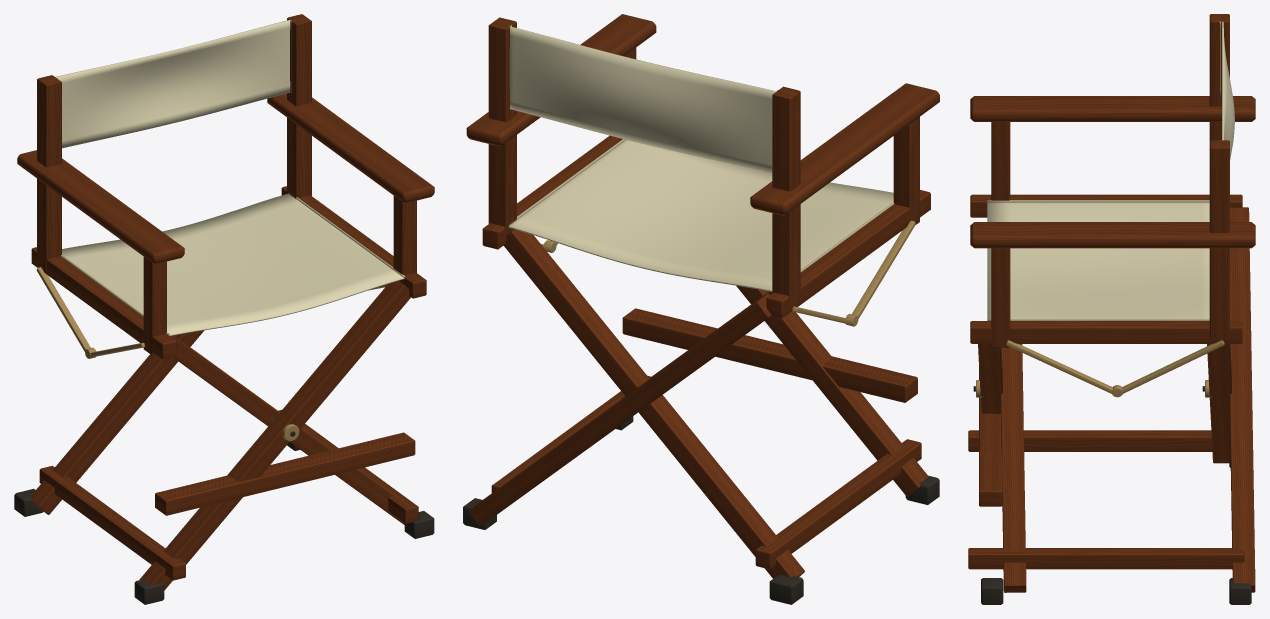
The model's file is S026_director_chair_rebuilt.glb.
3 renders of one model, left to right at view 1: azimuth 30°, elevation 25°; view 2: azimuth 150°, elevation 25°; view 3: azimuth 270°, elevation 25°, orthographic. The views are drawn at different scales.
Visible parts, largest first — view 1: Director_honey_beech, Director_warm_ivory_canvas, Director_dark_rubber_feet, Director_bronze_folding_hardware, Director_sewn_canvas_hems; view 2: Director_honey_beech, Director_warm_ivory_canvas, Director_dark_rubber_feet, Director_bronze_folding_hardware, Director_sewn_canvas_hems; view 3: Director_honey_beech, Director_warm_ivory_canvas, Director_bronze_folding_hardware, Director_dark_rubber_feet, Director_sewn_canvas_hems.
Boxes of the visible parts, x1,y1,x2,y2 form: Director_honey_beech: [17, 14, 434, 590]; Director_warm_ivory_canvas: [55, 20, 404, 336]; Director_dark_rubber_feet: [14, 431, 434, 604]; Director_bronze_folding_hardware: [36, 267, 387, 441]; Director_sewn_canvas_hems: [57, 20, 405, 335]; Director_honey_beech: [466, 14, 939, 578]; Director_warm_ivory_canvas: [508, 26, 893, 291]; Director_dark_rubber_feet: [463, 416, 939, 604]; Director_bronze_folding_hardware: [541, 220, 915, 326]; Director_sewn_canvas_hems: [509, 25, 894, 272]; Director_honey_beech: [968, 14, 1255, 592]; Director_warm_ivory_canvas: [987, 21, 1234, 318]; Director_bronze_folding_hardware: [976, 340, 1224, 397]; Director_dark_rubber_feet: [973, 386, 1251, 604]; Director_sewn_canvas_hems: [987, 21, 1220, 320].
Size of the model in its own units: 0.875 by 1.25 by 0.723.
5 materials, 1 textured.
